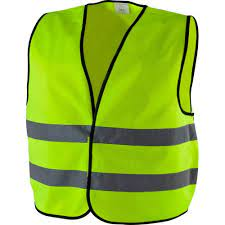Jacket: (18, 1, 215, 225)
